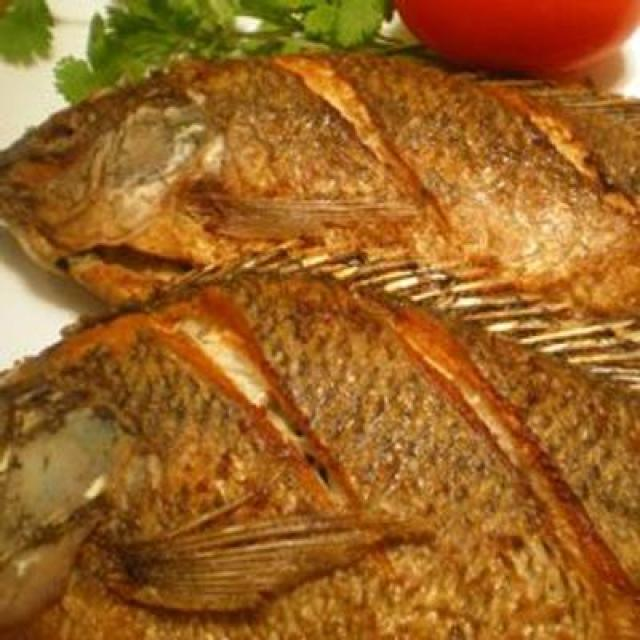Peixe: (0, 268, 638, 638), (0, 46, 638, 335)
